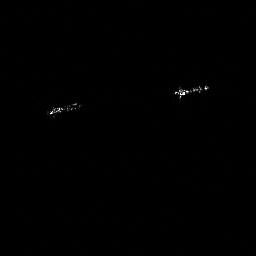ship: (175, 84, 206, 97)
